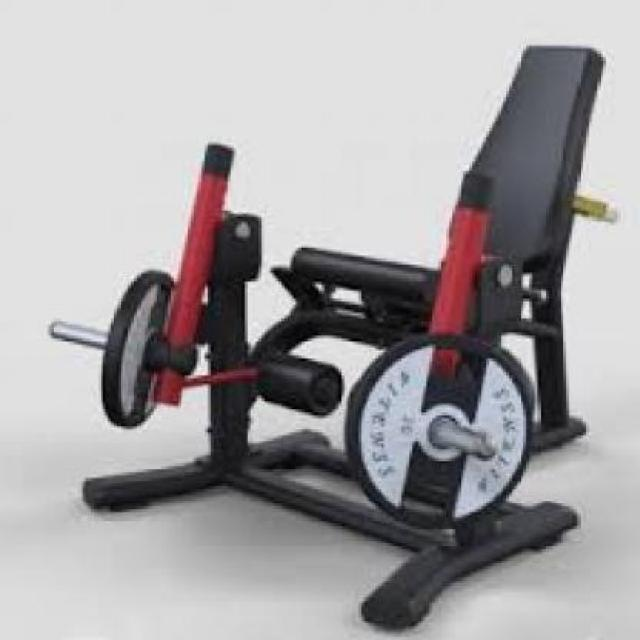leg extension: (14, 3, 640, 640)
